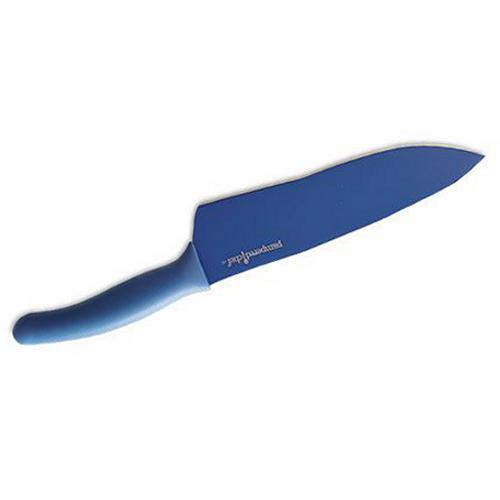knife: (10, 143, 490, 344)
